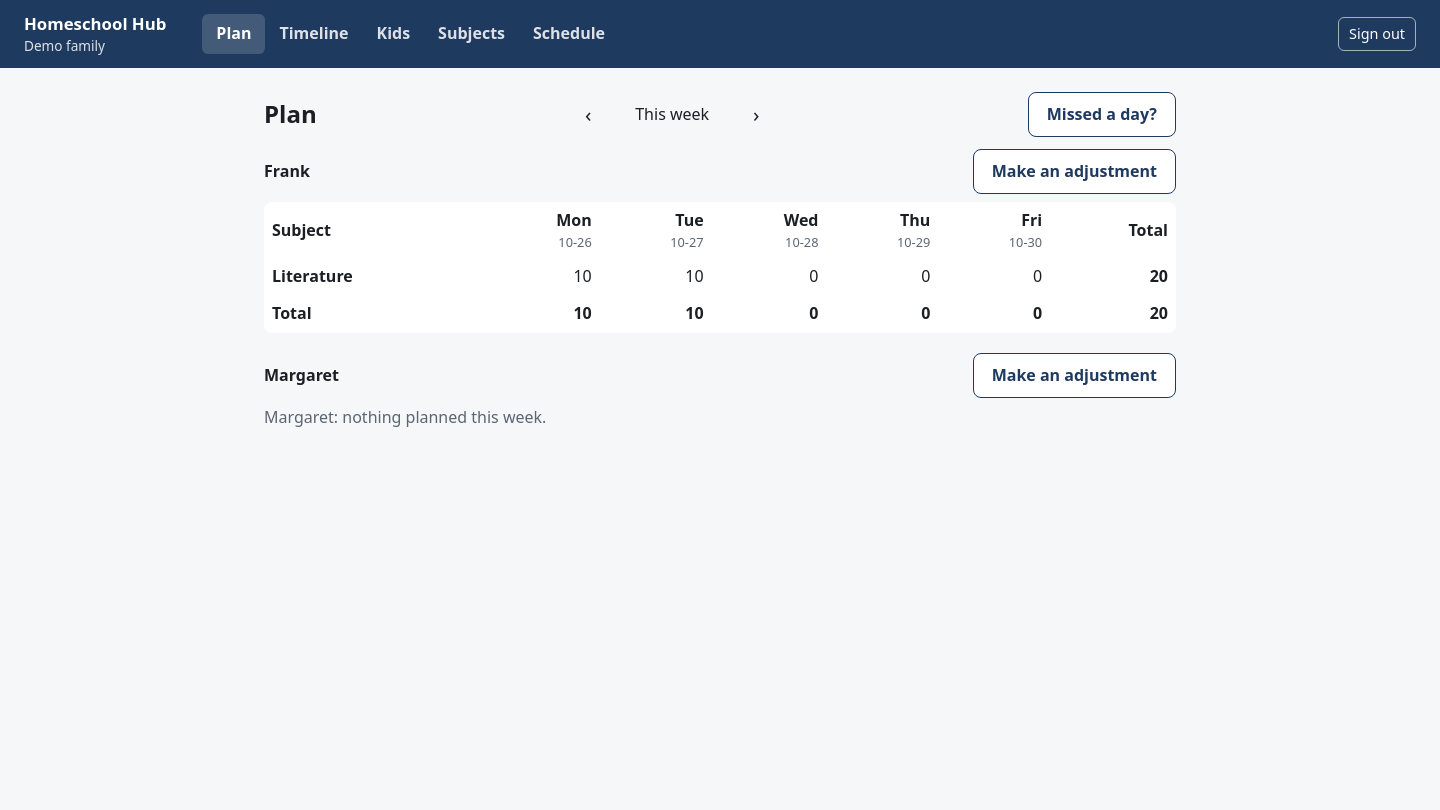
Test: Make an adjustment › wide screens get a Dialog, phones a Drawer; both titled with the child and Last week · its dates (T-09)
Step 1. Click the button with aria-label "Make an adjustment for Frank" → (1074, 172), box [973,149,1176,194]
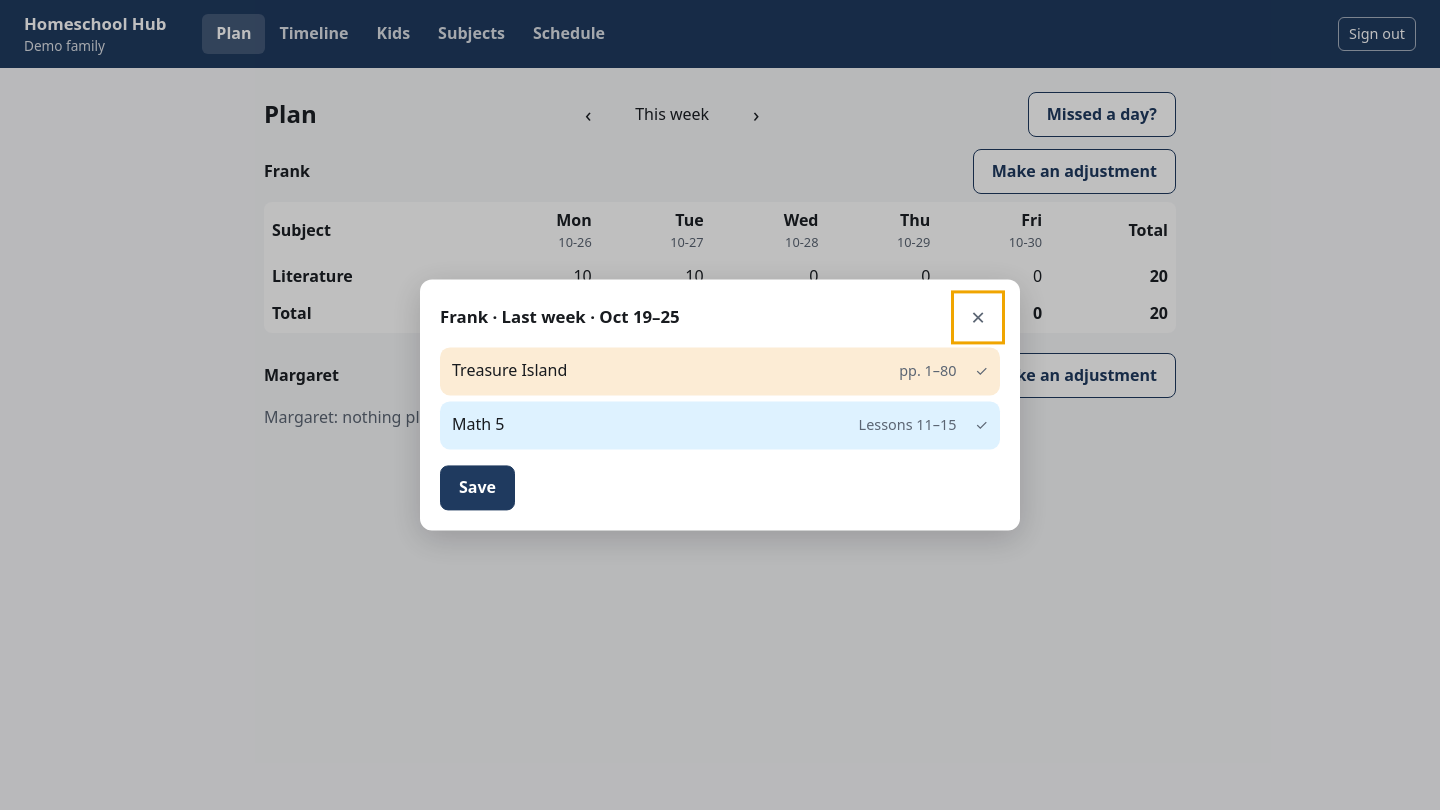
Step 2. Click the button named "Close" → (978, 317), box [956,295,1000,339]
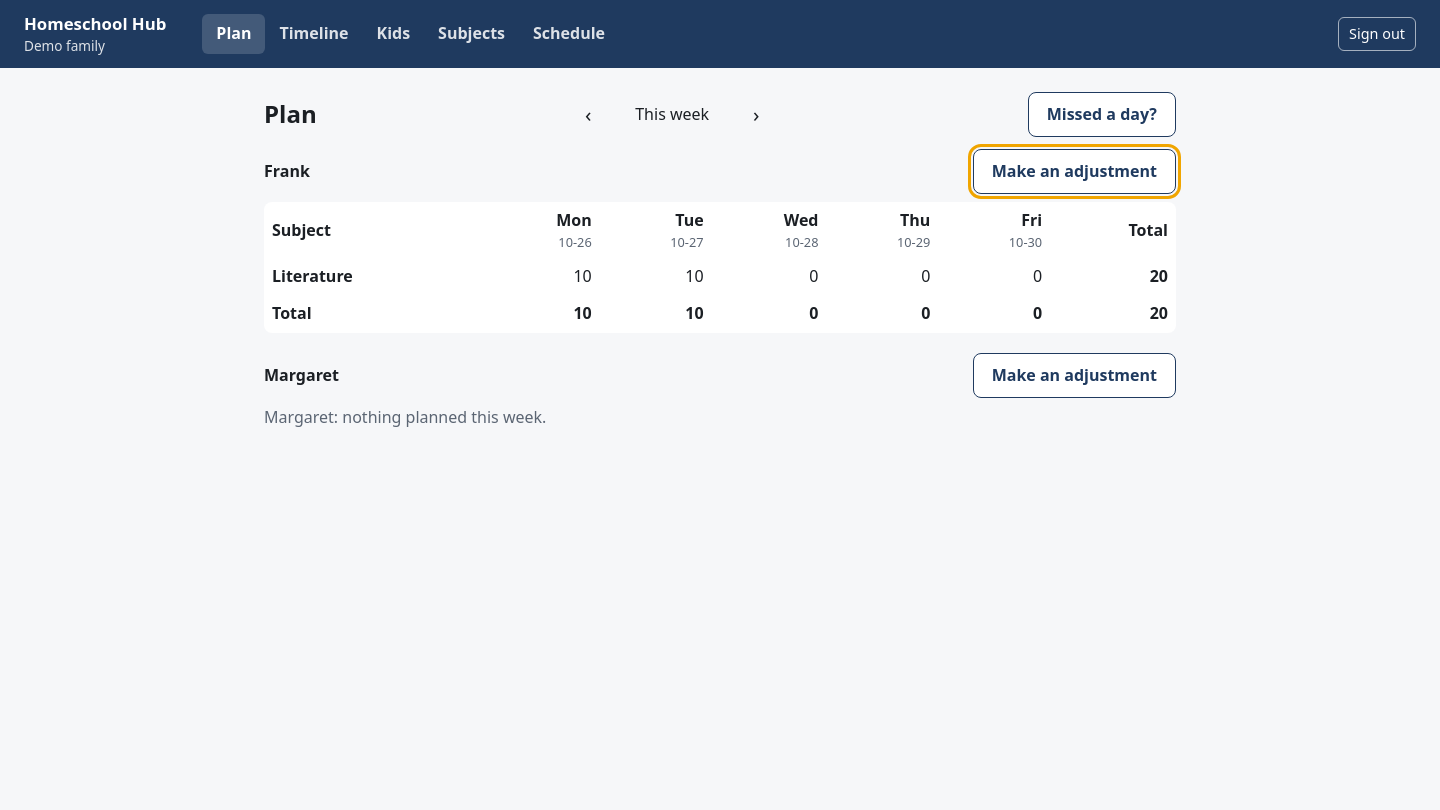
Result: the dialog is gone
